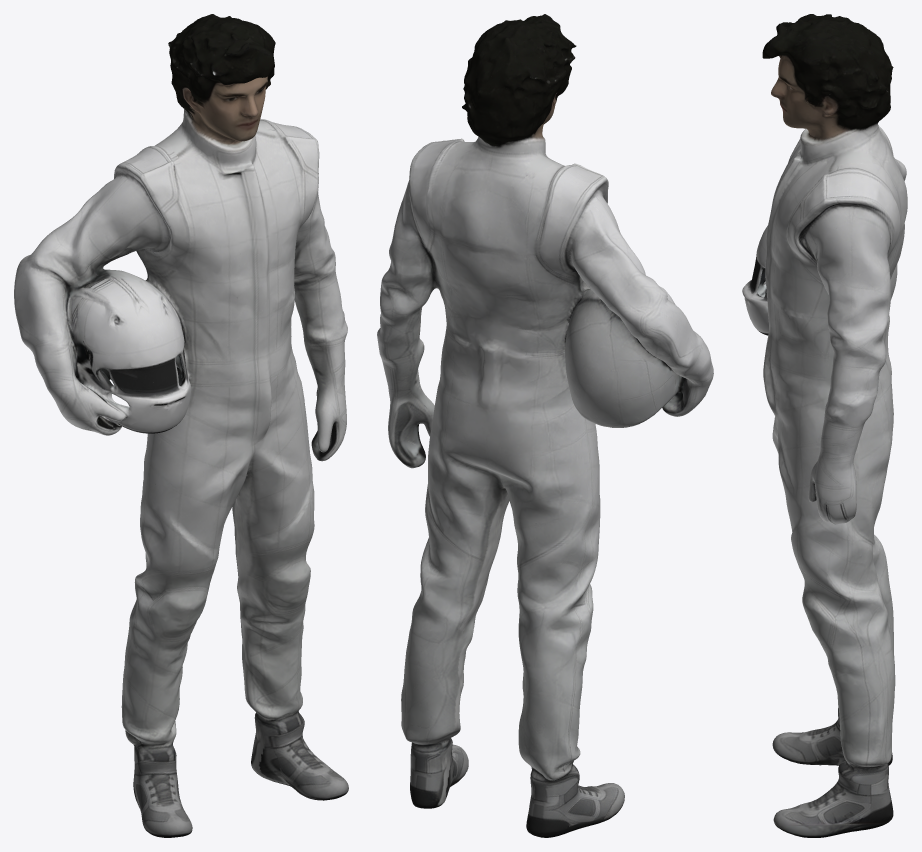
File: Meshy_AI_White_Horizon_Pilot_1006174733_texture.glb
The picture shows the model from 3 angles, left to right: view 1: azimuth 30°, elevation 25°; view 2: azimuth 150°, elevation 25°; view 3: azimuth 270°, elevation 25°; orthographic projection. The views are drawn at different scales.
Bounding box in the file's own units: 0.8014 × 1.9 × 0.3689.
Materials: 1 (1 with a texture image).
